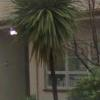Palm tree: (14, 0, 73, 89)
